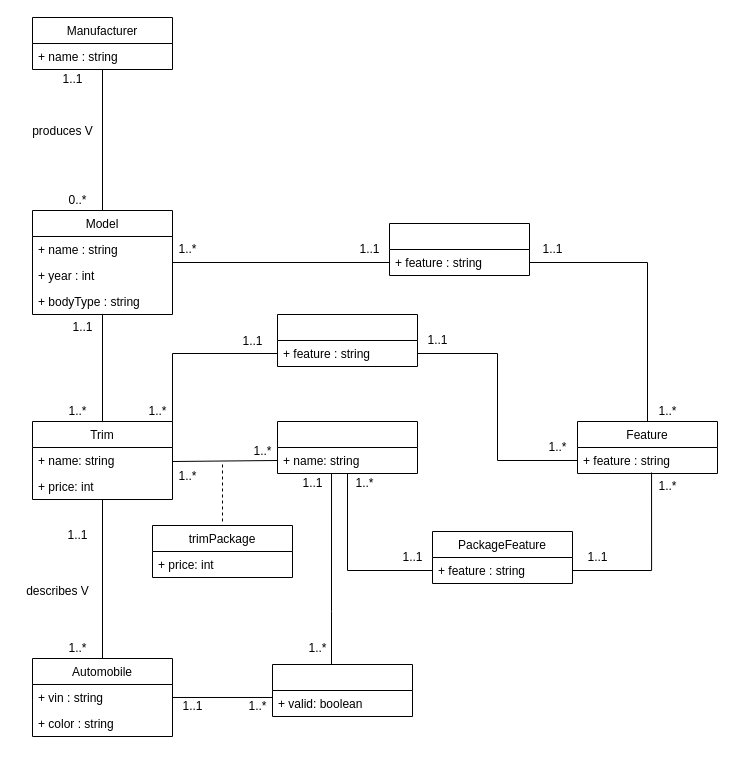
Image size: 735x757. Some labels were removed from this diagram. Each missing label, with the box of its shape:
AutomobilePackage: (272, 664, 412, 716)
ModelFeature: (388, 222, 530, 276)
Package: (276, 420, 418, 474)
TrimFeature: (276, 314, 418, 366)
